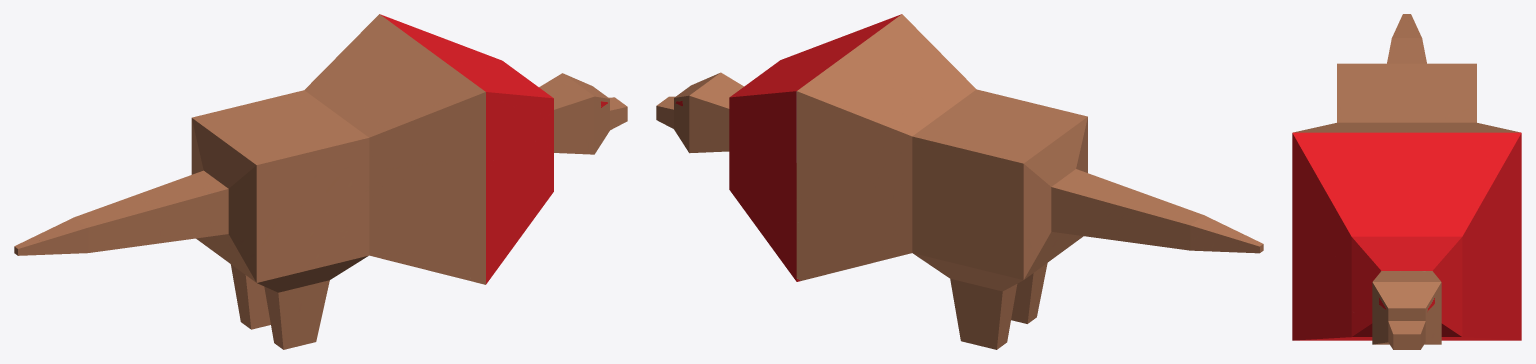
The model's file is beast.obj.
3 renders of one model, left to right at view 1: azimuth 30°, elevation 25°; view 2: azimuth 150°, elevation 25°; view 3: azimuth 270°, elevation 25°, orthographic. The views are drawn at different scales.
Visible parts, largest first — view 1: Cube; view 2: Cube; view 3: Cube.
Part boxes in pixels (left/top/right/bottom): Cube: left=14, top=14, right=627, bottom=349; Cube: left=656, top=14, right=1263, bottom=349; Cube: left=1292, top=14, right=1521, bottom=349.
Bounding box in the file's own units: 3.29 × 1.26 × 1.
